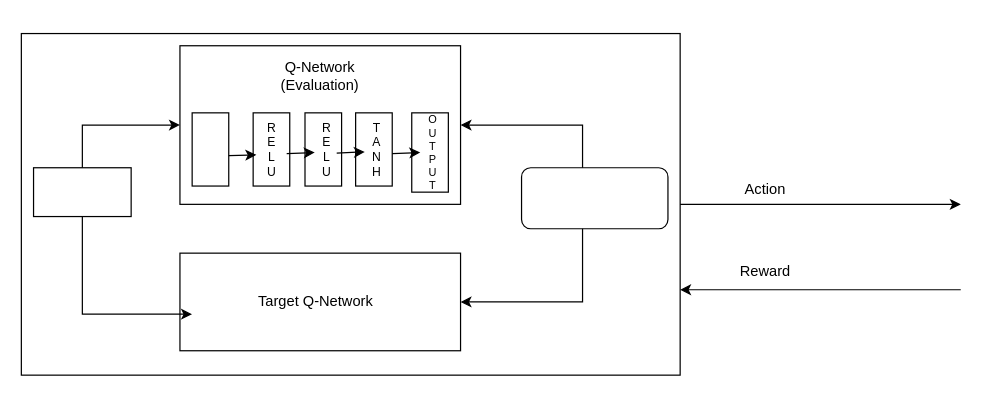
Image size: 992x407. Some labels were removed from this diagram. The centre of each missing label's shape, as x and y in pixels:
I N P U T: pixel 210 149
Loss Function: pixel 81 192
Replay Buffer: pixel 594 198
